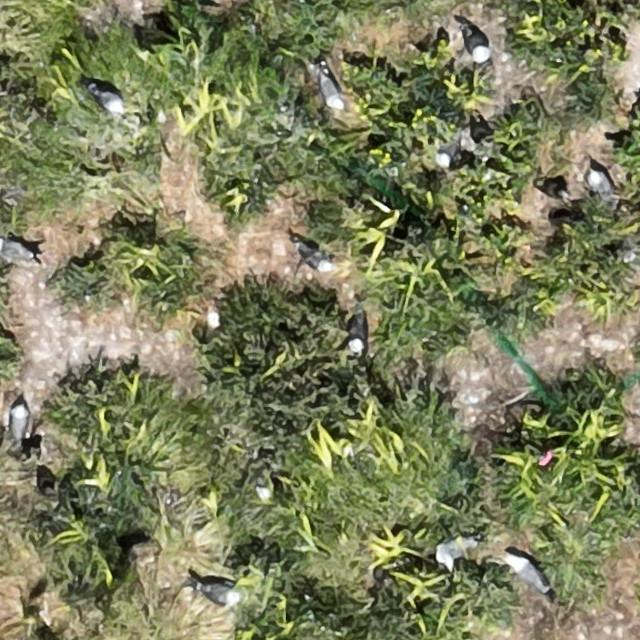umineko: (513, 559, 546, 592), (298, 244, 330, 272), (436, 538, 468, 564), (465, 30, 490, 63), (93, 88, 123, 114), (587, 171, 613, 201), (321, 73, 343, 108), (202, 583, 238, 604), (11, 403, 28, 439), (347, 318, 365, 352), (4, 240, 34, 260), (437, 139, 457, 167)
